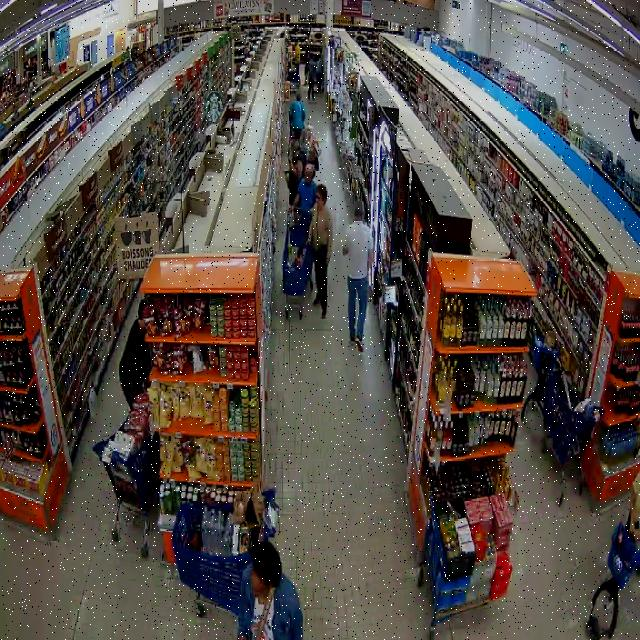bags: (254, 588, 274, 639)
hands: (631, 525, 639, 542), (144, 377, 150, 388), (327, 254, 330, 266), (306, 239, 310, 247), (289, 205, 293, 212)
person: (238, 542, 302, 639), (343, 205, 373, 352), (309, 185, 333, 318), (120, 302, 149, 406), (290, 165, 317, 212), (627, 476, 639, 544)
